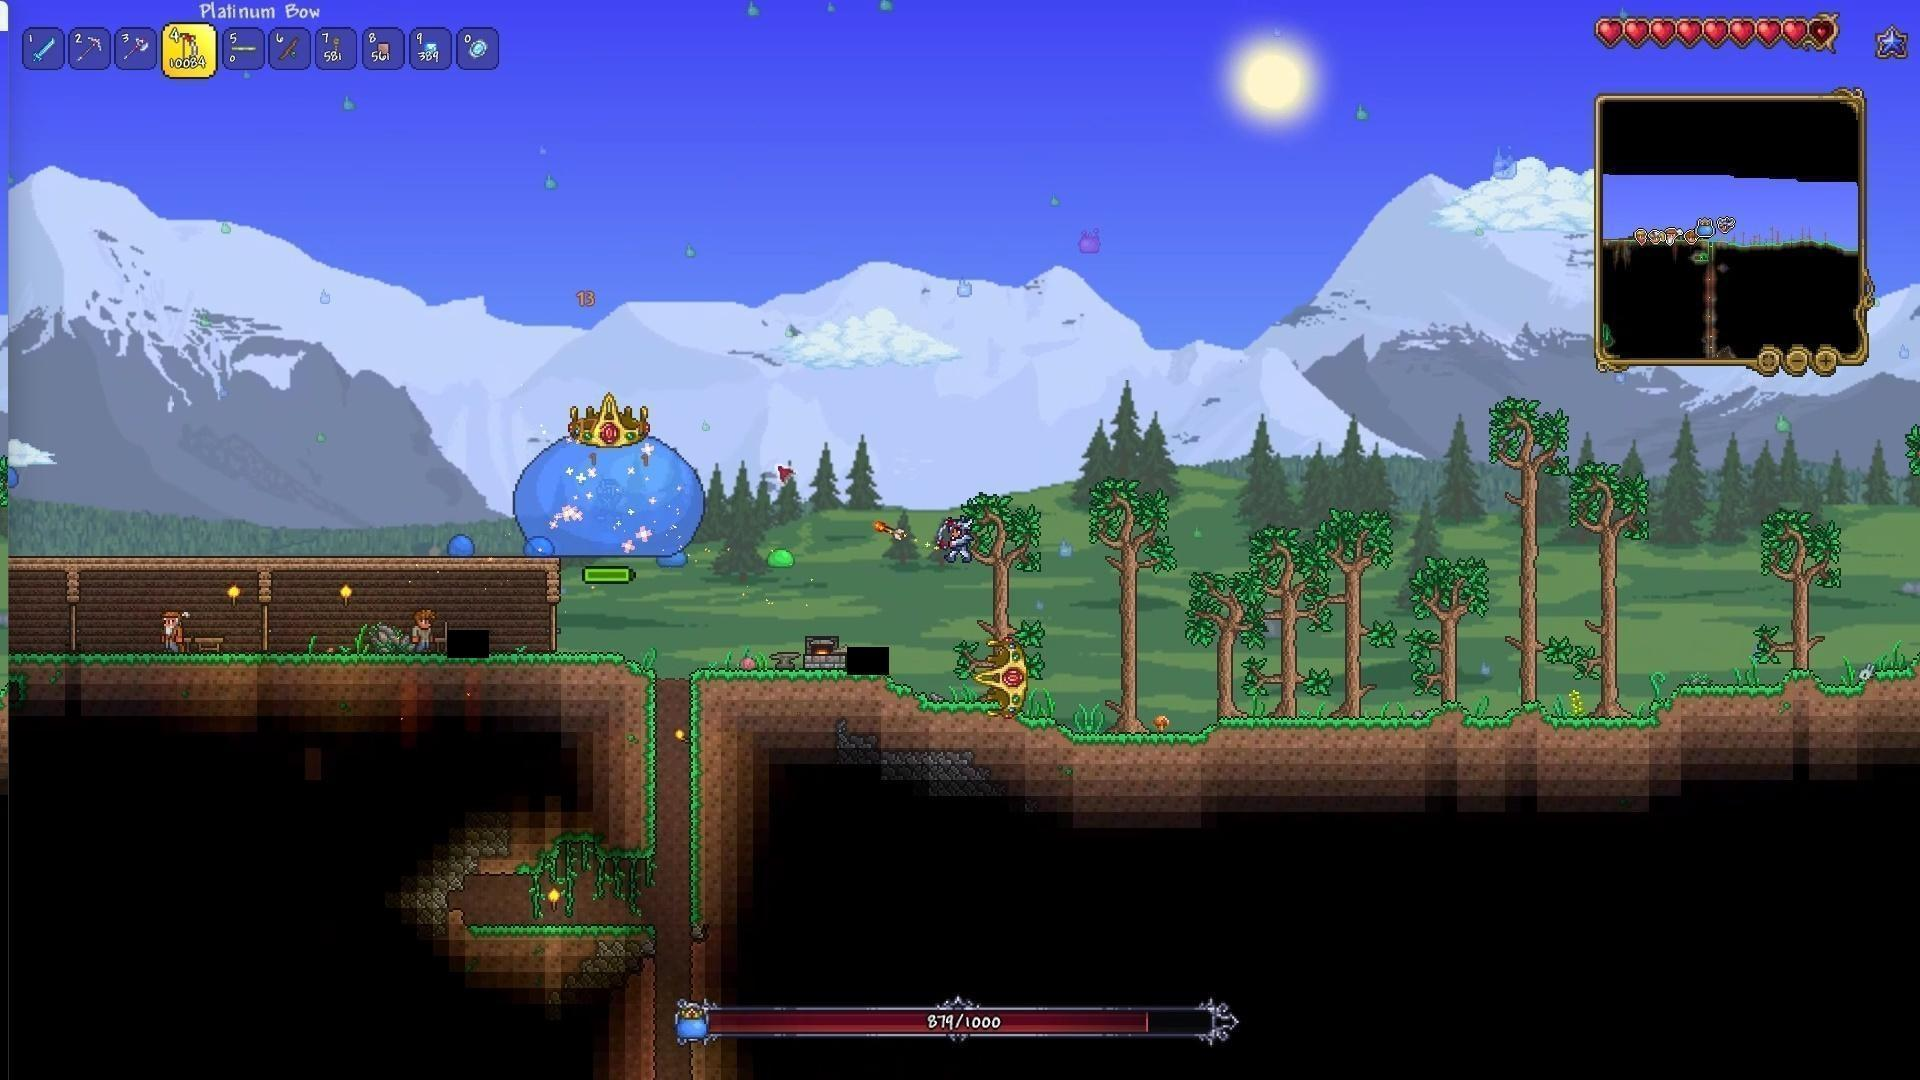slime: (516, 531, 562, 560), (444, 527, 477, 556), (764, 545, 798, 572), (735, 651, 758, 676)
workbench: (189, 632, 229, 658)
